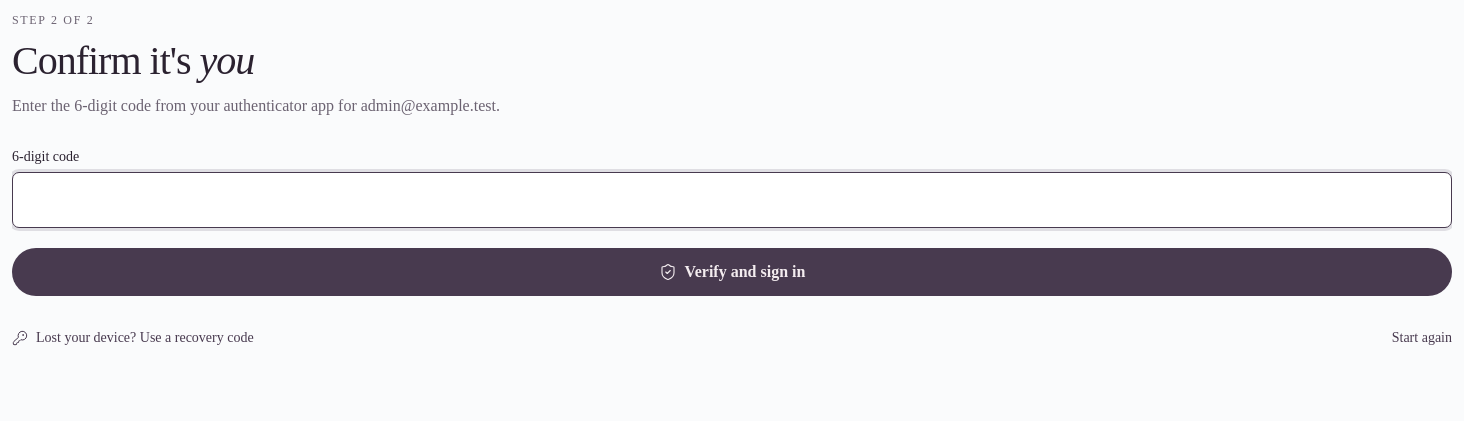
Admin TOTP verification › a wrong or expired code never enters the portal
Step 1. Type "000000" into the field labelled "6-digit code" → [732, 200], box [12,172,1452,228]
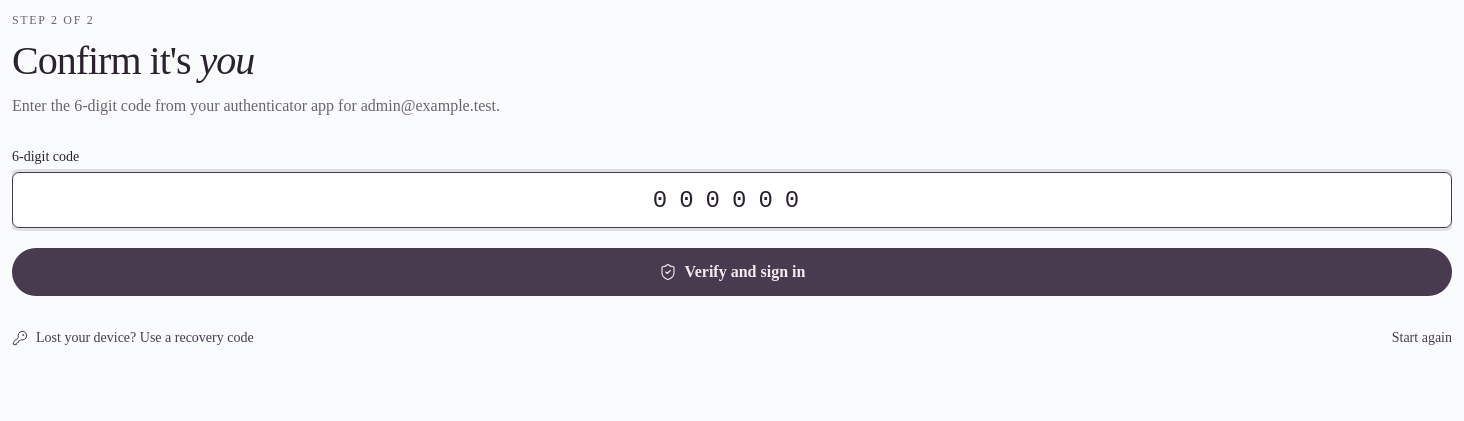
Step 2. Click the button "Verify and sign in" → [732, 272], box [12,248,1452,296]
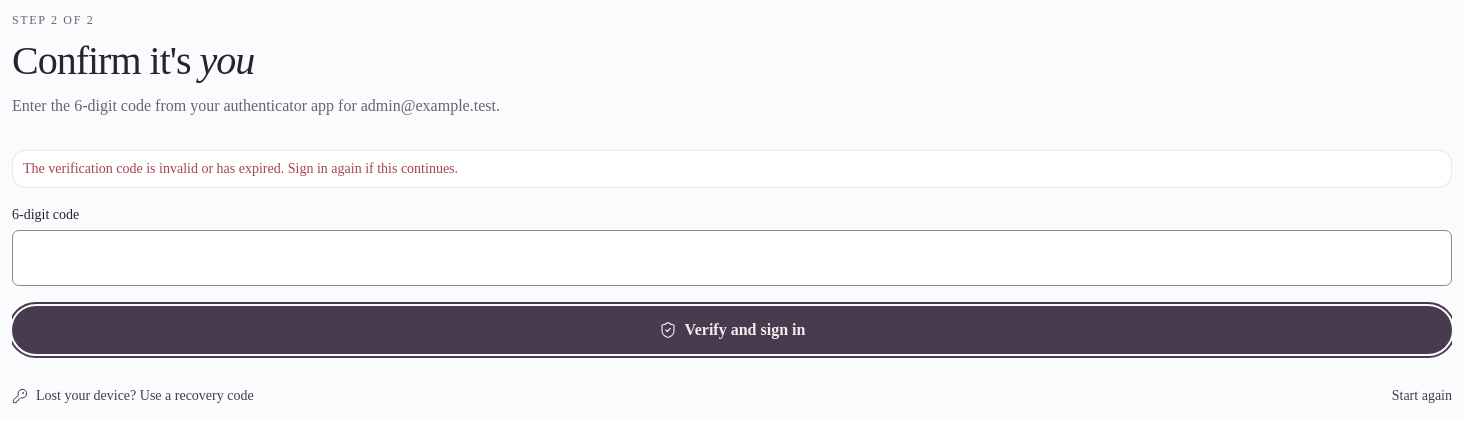
Check: the text "The verification code is invalid or has expired. Sign in again if this continues." is shown, box [23,161,458,176]
Check: the field labelled "6-digit code" is empty, box [12,230,1452,286]
